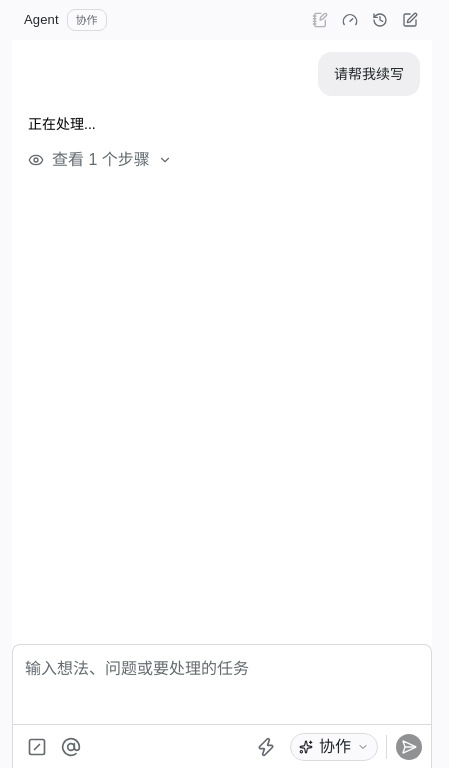
Test: BookAgentPanel › 手动设置消息后可以渲染特殊 part 卡片
The width and height of the screenshot is (449, 768).
Expected: the text "请帮我续写" is shown, top-left (334, 62), bottom-right (404, 86)
Click the button "查看 1 个步骤".
click(100, 160)  # box top-left (24, 144), bottom-right (176, 176)
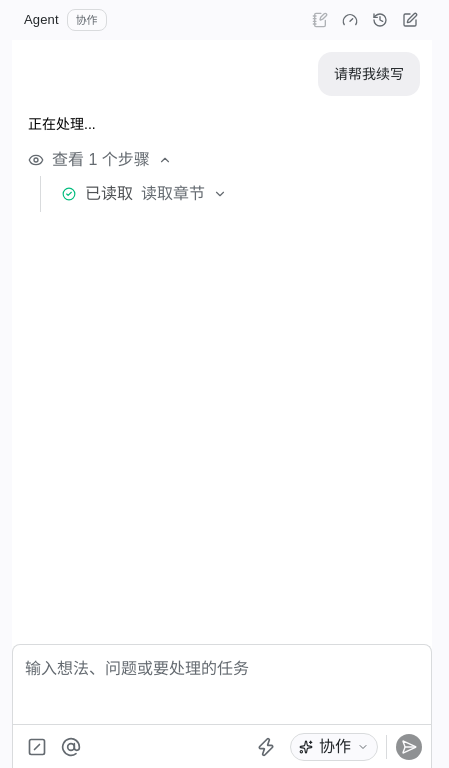
Result: the button "已读取 读取章节" is shown at top-left (57, 180), bottom-right (231, 208)
